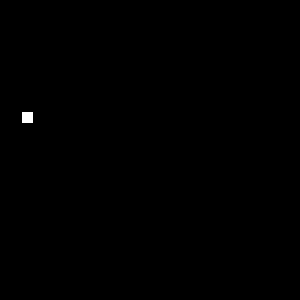circle: (22, 112, 33, 123)
